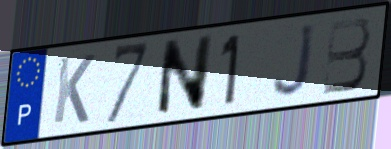1: (218, 32, 241, 108)
7: (104, 40, 153, 127)
B: (321, 15, 374, 98)
J: (270, 20, 318, 100)
K: (50, 52, 97, 127)
N: (153, 32, 216, 120)
